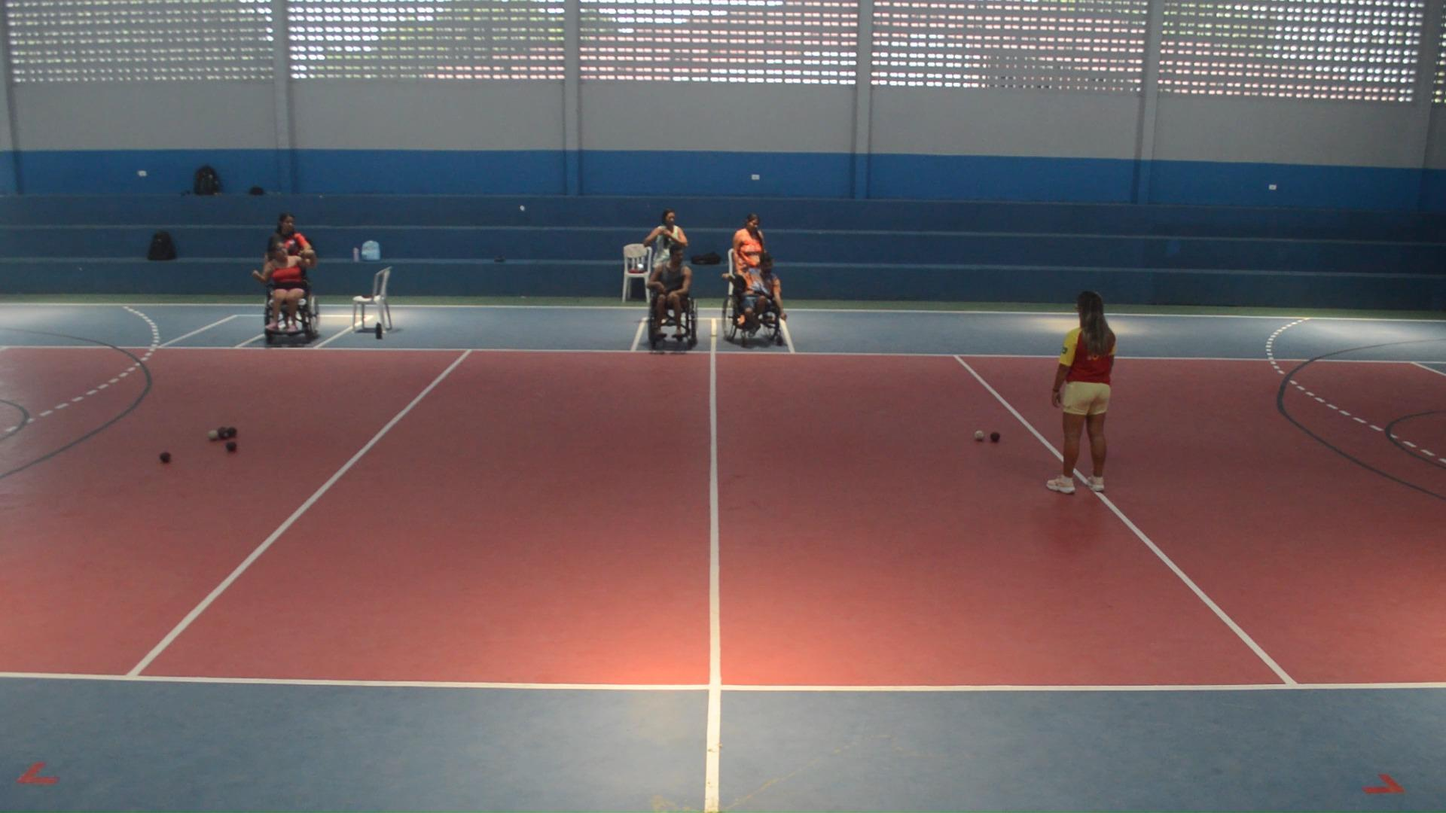red_ball: (991, 432, 999, 441)
white_ball: (975, 430, 985, 441)
